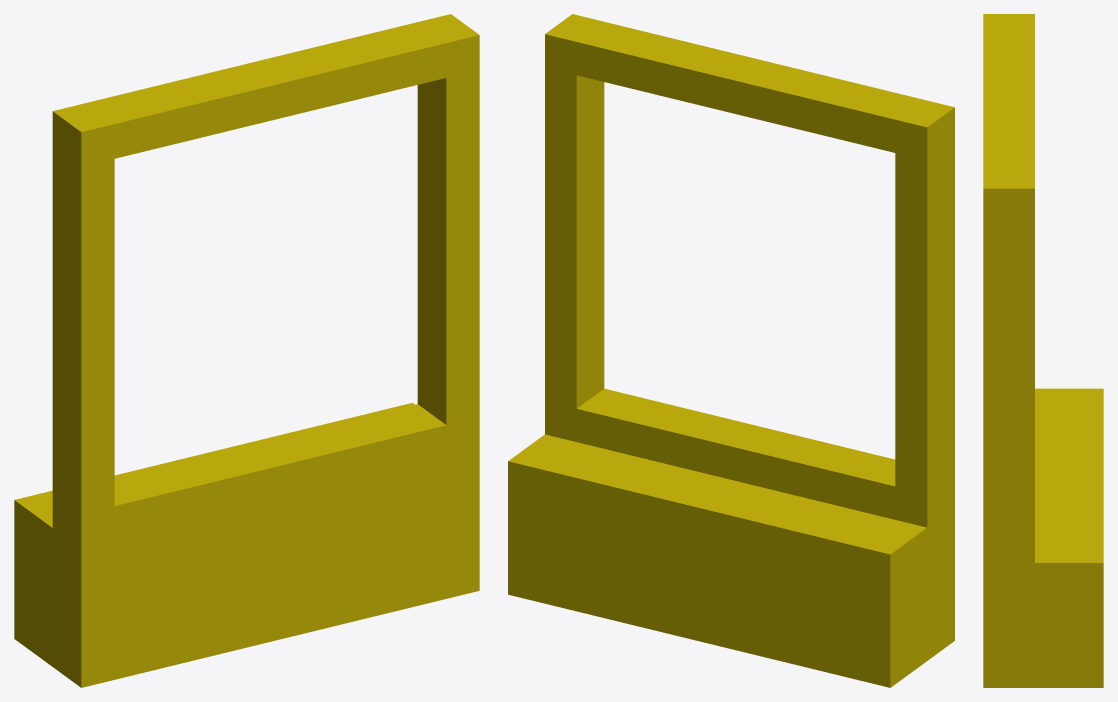
File: door_manual_flush_3x3.dae
3 renders of one model, left to right at view 1: azimuth 30°, elevation 25°; view 2: azimuth 150°, elevation 25°; view 3: azimuth 270°, elevation 25°, orthographic. The views are drawn at different scales.
Parts seen in each view (by area): view 1: Cube; view 2: Cube; view 3: Cube.
Part boxes in pixels (box(x1,y1,x2,y2)): Cube: box(14, 14, 479, 687); Cube: box(508, 14, 954, 687); Cube: box(983, 14, 1103, 687).
Bounding box in the file's own units: 0.75 × 0.2188 × 1.
